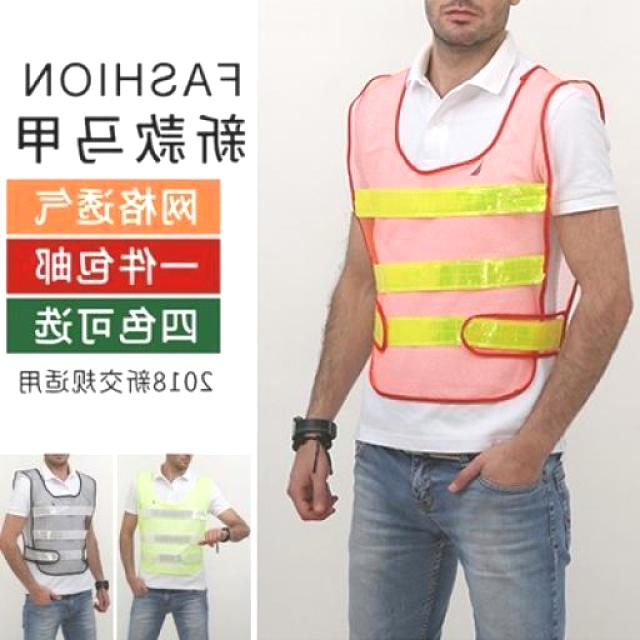hand_noglove: (281, 440, 347, 530), (200, 523, 228, 551), (89, 586, 113, 618)
person: (277, 0, 640, 640), (118, 450, 244, 636), (1, 452, 114, 639)
vest: (354, 59, 600, 400), (134, 469, 234, 589), (15, 472, 100, 586)
